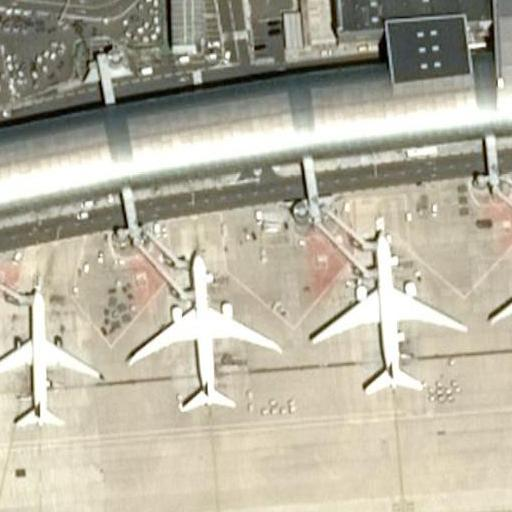Aircraft: (307, 225, 464, 397), (123, 249, 284, 412), (0, 278, 103, 430), (485, 189, 512, 386)
